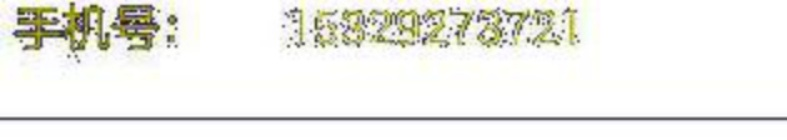EditText: (1, 1, 786, 139)
